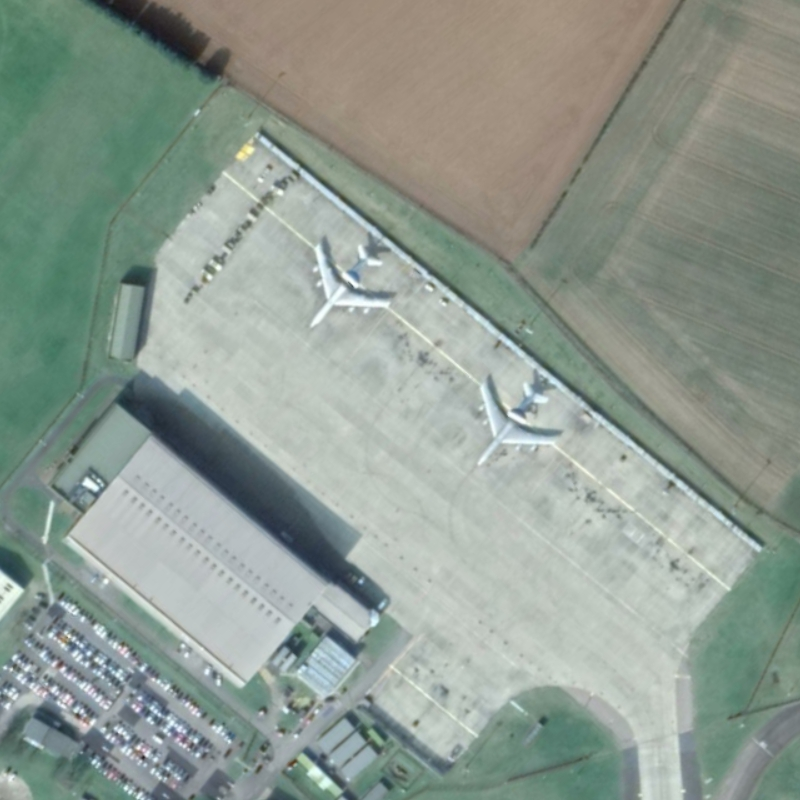A7: (297, 217, 397, 339), (468, 359, 572, 475)
